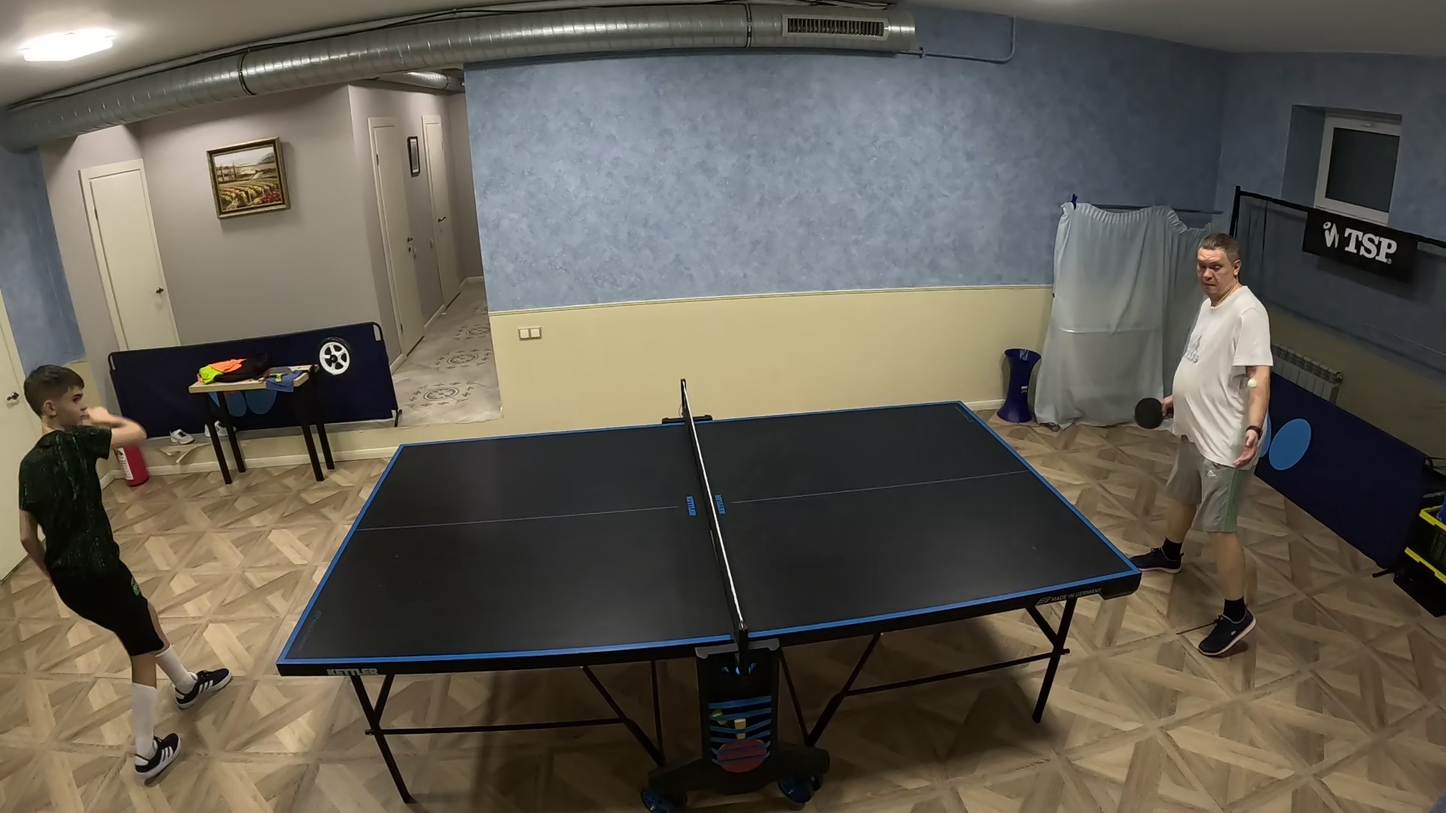Ball: (1247, 379, 1258, 388)
